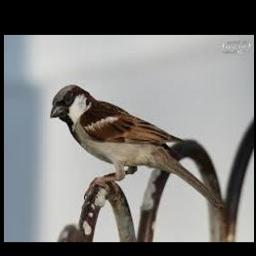Sparrow: (51, 85, 225, 211)
